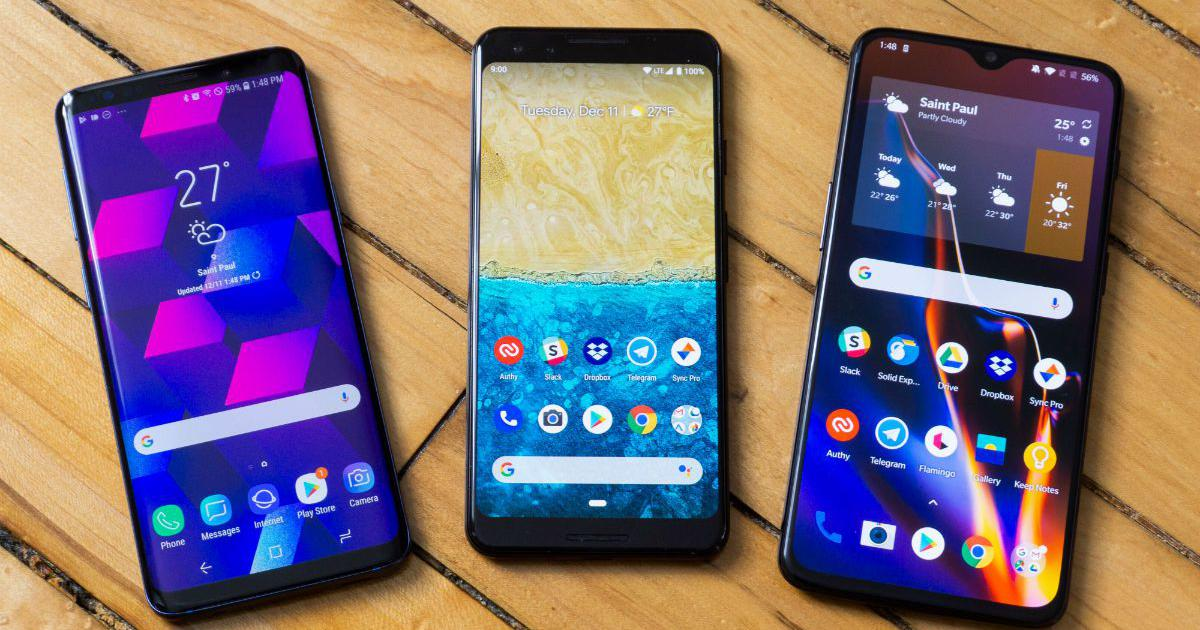phones: (48, 36, 421, 626), (775, 12, 1104, 623), (441, 10, 760, 571)
